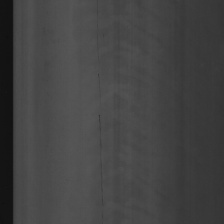inclusion: (93, 0, 107, 218)
